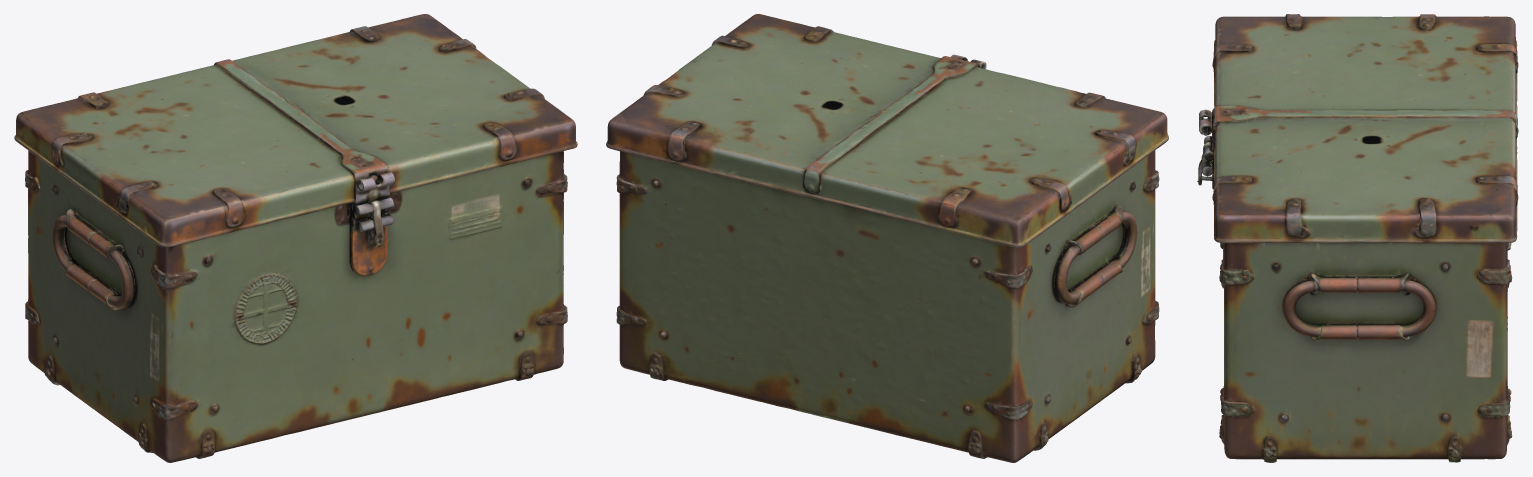
File: vault.glb
The picture shows the model from 3 angles, left to right: view 1: azimuth 30°, elevation 25°; view 2: azimuth 150°, elevation 25°; view 3: azimuth 270°, elevation 25°; orthographic projection.
Visible parts, largest first — view 1: Mesh_0; view 2: Mesh_0; view 3: Mesh_0.
Boxes of the visible parts, x1,y1,x2,y2 form: Mesh_0: [14, 14, 577, 462]; Mesh_0: [606, 14, 1168, 462]; Mesh_0: [1197, 14, 1518, 462].
Bounding box in the file's own units: 1.9 × 1.1 × 1.25.
1 material, 1 textured.
